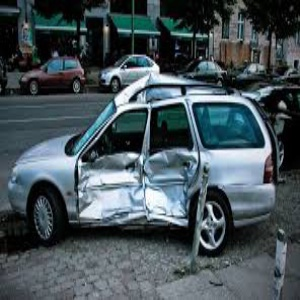door: (76, 156, 191, 222)
